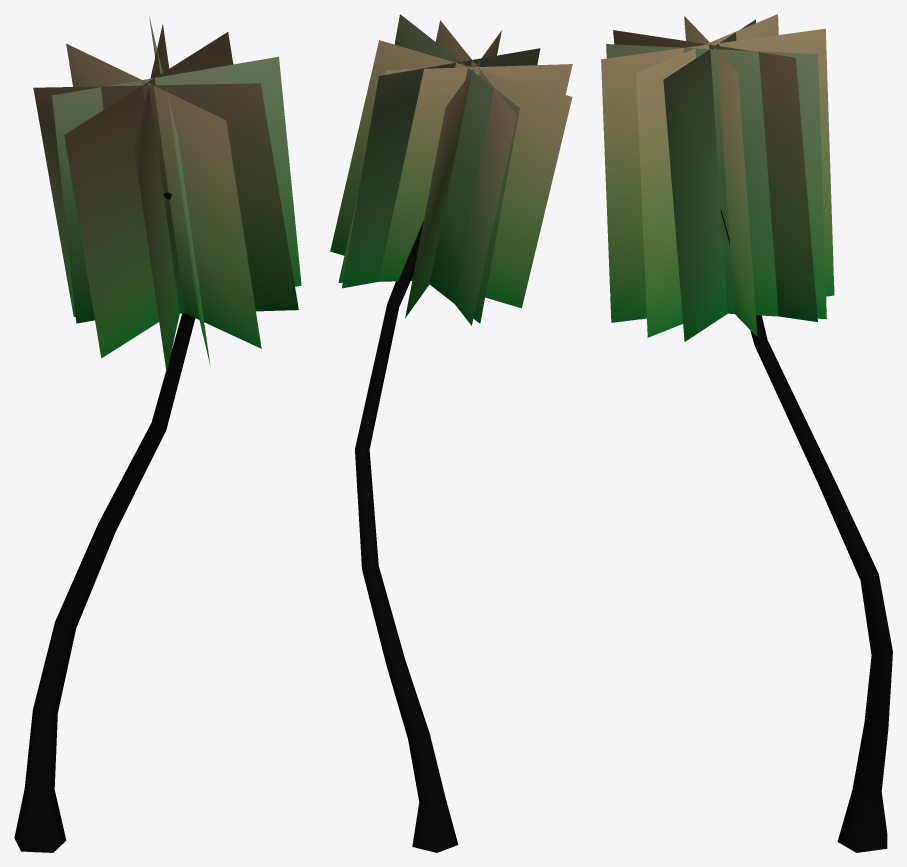
File: Super_Palm_9.fbx
The picture shows the model from 3 angles, left to right: view 1: azimuth 30°, elevation 25°; view 2: azimuth 150°, elevation 25°; view 3: azimuth 270°, elevation 25°; orthographic projection. The views are drawn at different scales.
Parts seen in each view (by area): view 1: Tree_9; view 2: Tree_9; view 3: Tree_9.
Boxes of the visible parts, box(x1,y1,x2,y2) form: Tree_9: box(14, 15, 301, 852); Tree_9: box(330, 14, 572, 852); Tree_9: box(601, 14, 892, 852).
Size of the model in its own units: 624 by 2075 by 660.
